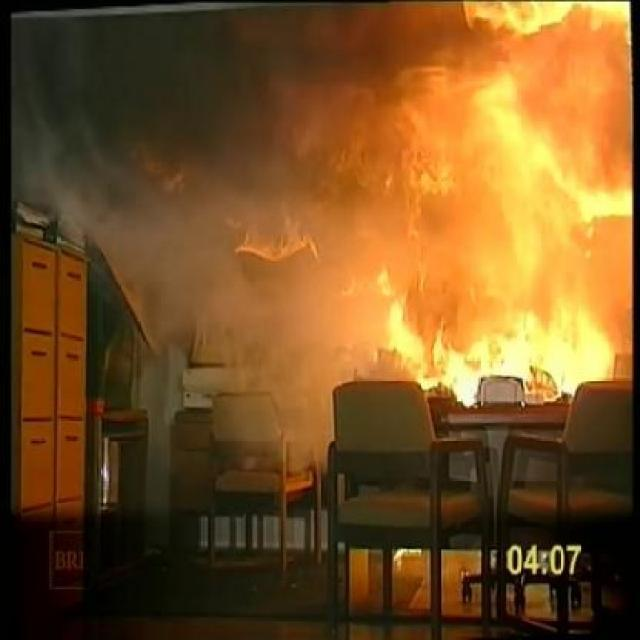fire: (364, 90, 600, 368)
smoke: (76, 106, 219, 316), (241, 278, 327, 389)
